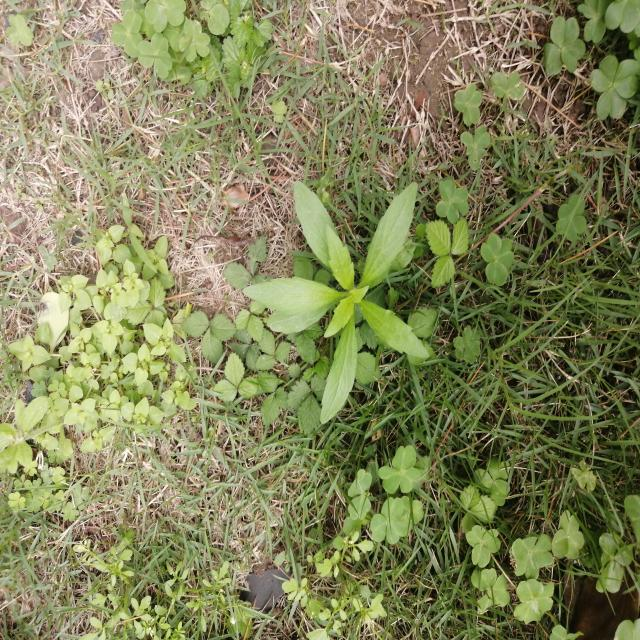horseweed: (238, 169, 420, 417)
